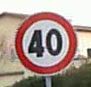limite 40: (13, 11, 77, 76)
